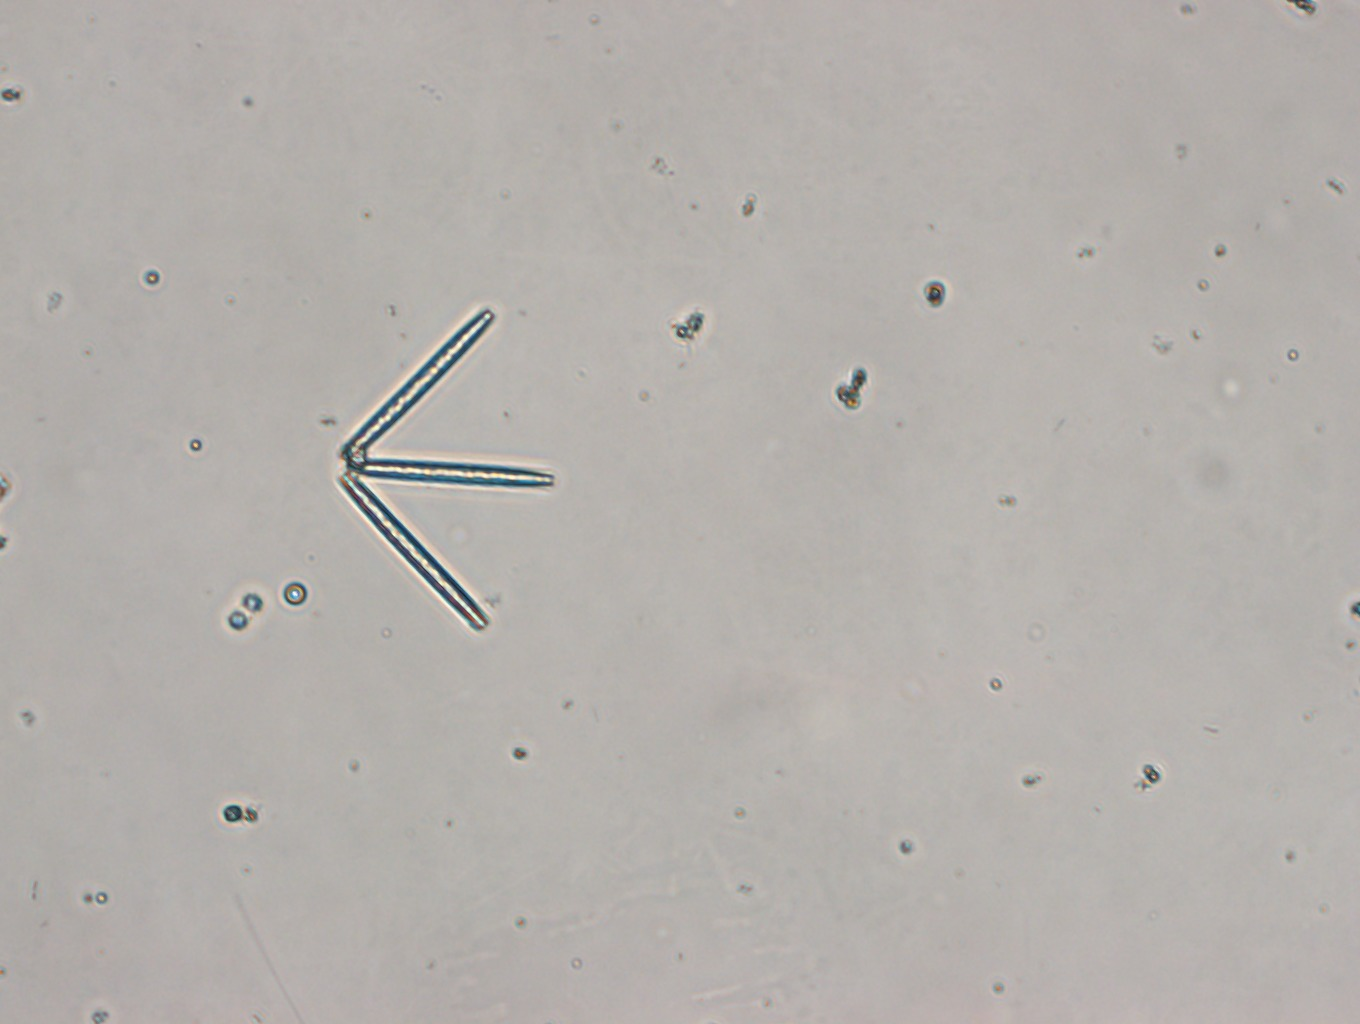thalassionema nitzschioides: (333, 307, 555, 630)
